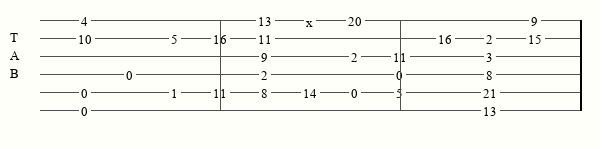0: (81, 86, 92, 99), (81, 104, 92, 117), (126, 68, 137, 81), (351, 86, 362, 99), (396, 68, 407, 81)
1: (171, 86, 182, 99)
10: (78, 32, 96, 45)
11: (213, 86, 231, 99), (258, 32, 276, 45), (393, 50, 411, 63)
13: (258, 14, 276, 27), (483, 104, 501, 117)
14: (303, 86, 321, 99)
15: (528, 32, 546, 45)
16: (213, 32, 231, 45), (438, 32, 456, 45)
2: (261, 68, 272, 81), (351, 50, 362, 63), (486, 32, 497, 45)
20: (348, 14, 366, 27)
21: (483, 86, 501, 99)
3: (486, 50, 497, 63)
4: (81, 14, 92, 27)
5: (171, 32, 182, 45), (396, 86, 407, 99)
8: (261, 86, 272, 99), (486, 68, 497, 81)
9: (261, 50, 272, 63), (531, 14, 542, 27)
x: (306, 15, 317, 25)
